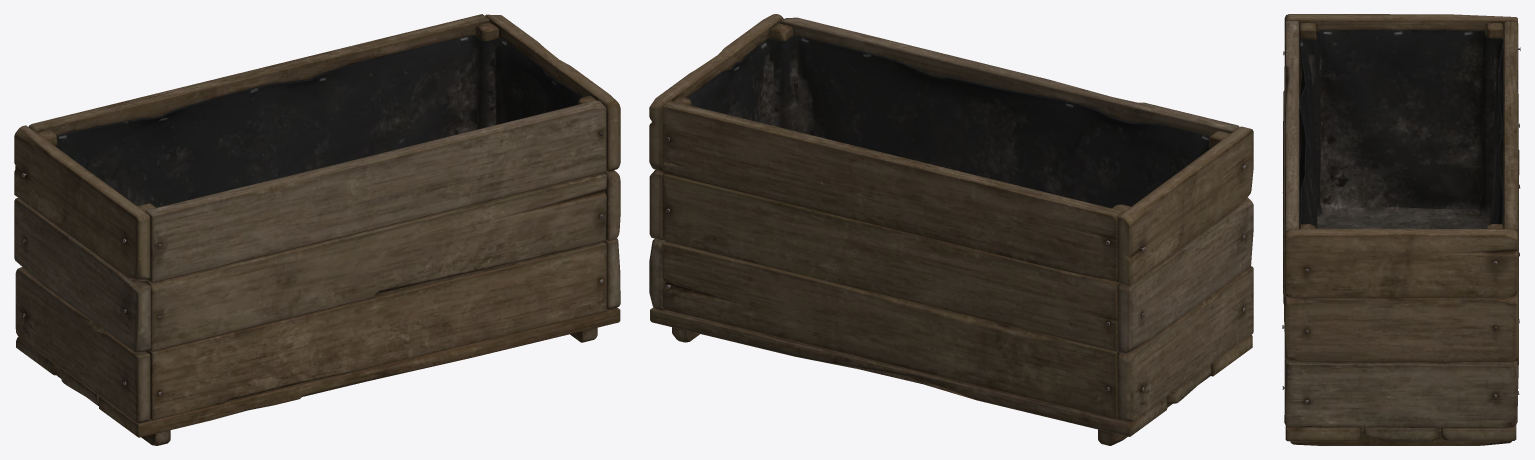
Rendered from planter_box_01.glb.
The picture shows the model from 3 angles, left to right: view 1: azimuth 30°, elevation 25°; view 2: azimuth 150°, elevation 25°; view 3: azimuth 270°, elevation 25°; orthographic projection. The views are drawn at different scales.
Visible parts, largest first — view 1: planter_box_01; view 2: planter_box_01; view 3: planter_box_01.
Part boxes in pixels (box(x1,y1,x2,y2)): planter_box_01: box(14, 14, 620, 445); planter_box_01: box(649, 14, 1253, 445); planter_box_01: box(1282, 14, 1520, 445).
Bounding box in the file's own units: 0.9126 × 0.4249 × 0.4137.
1 material, 1 textured.
